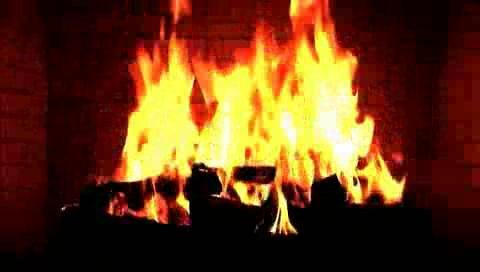fire: (112, 7, 391, 228)
